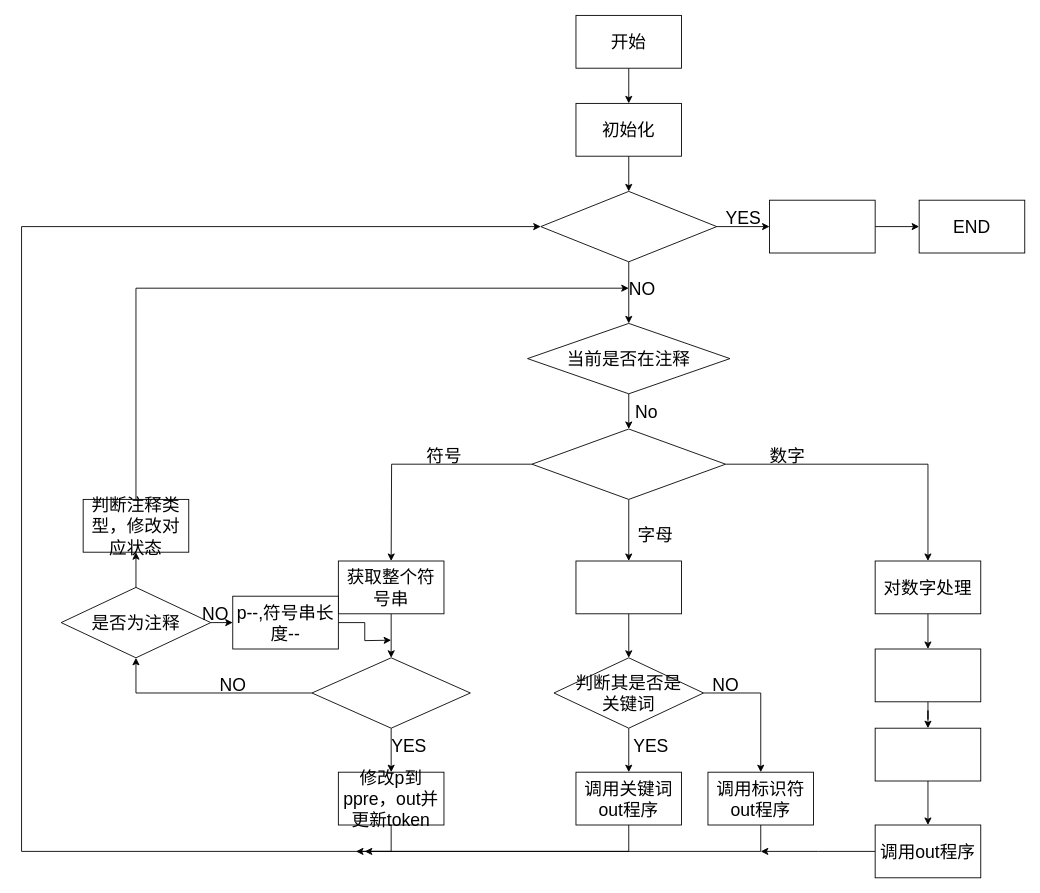
Image size: 1040x893. Some labels were removed from this diagram. Each missing label, with the box of its shape:
不断读入，直至遇到符号/运算符: (575, 560, 682, 614)
判断开始字符 为哪种类型: (531, 428, 726, 499)
对E|e处理: (874, 648, 981, 702)
对小数点处理: (874, 727, 981, 781)
是否在符号表内: (311, 657, 470, 728)
是否读完整个文件: (540, 191, 717, 262)
输出信息: (769, 199, 875, 253)
